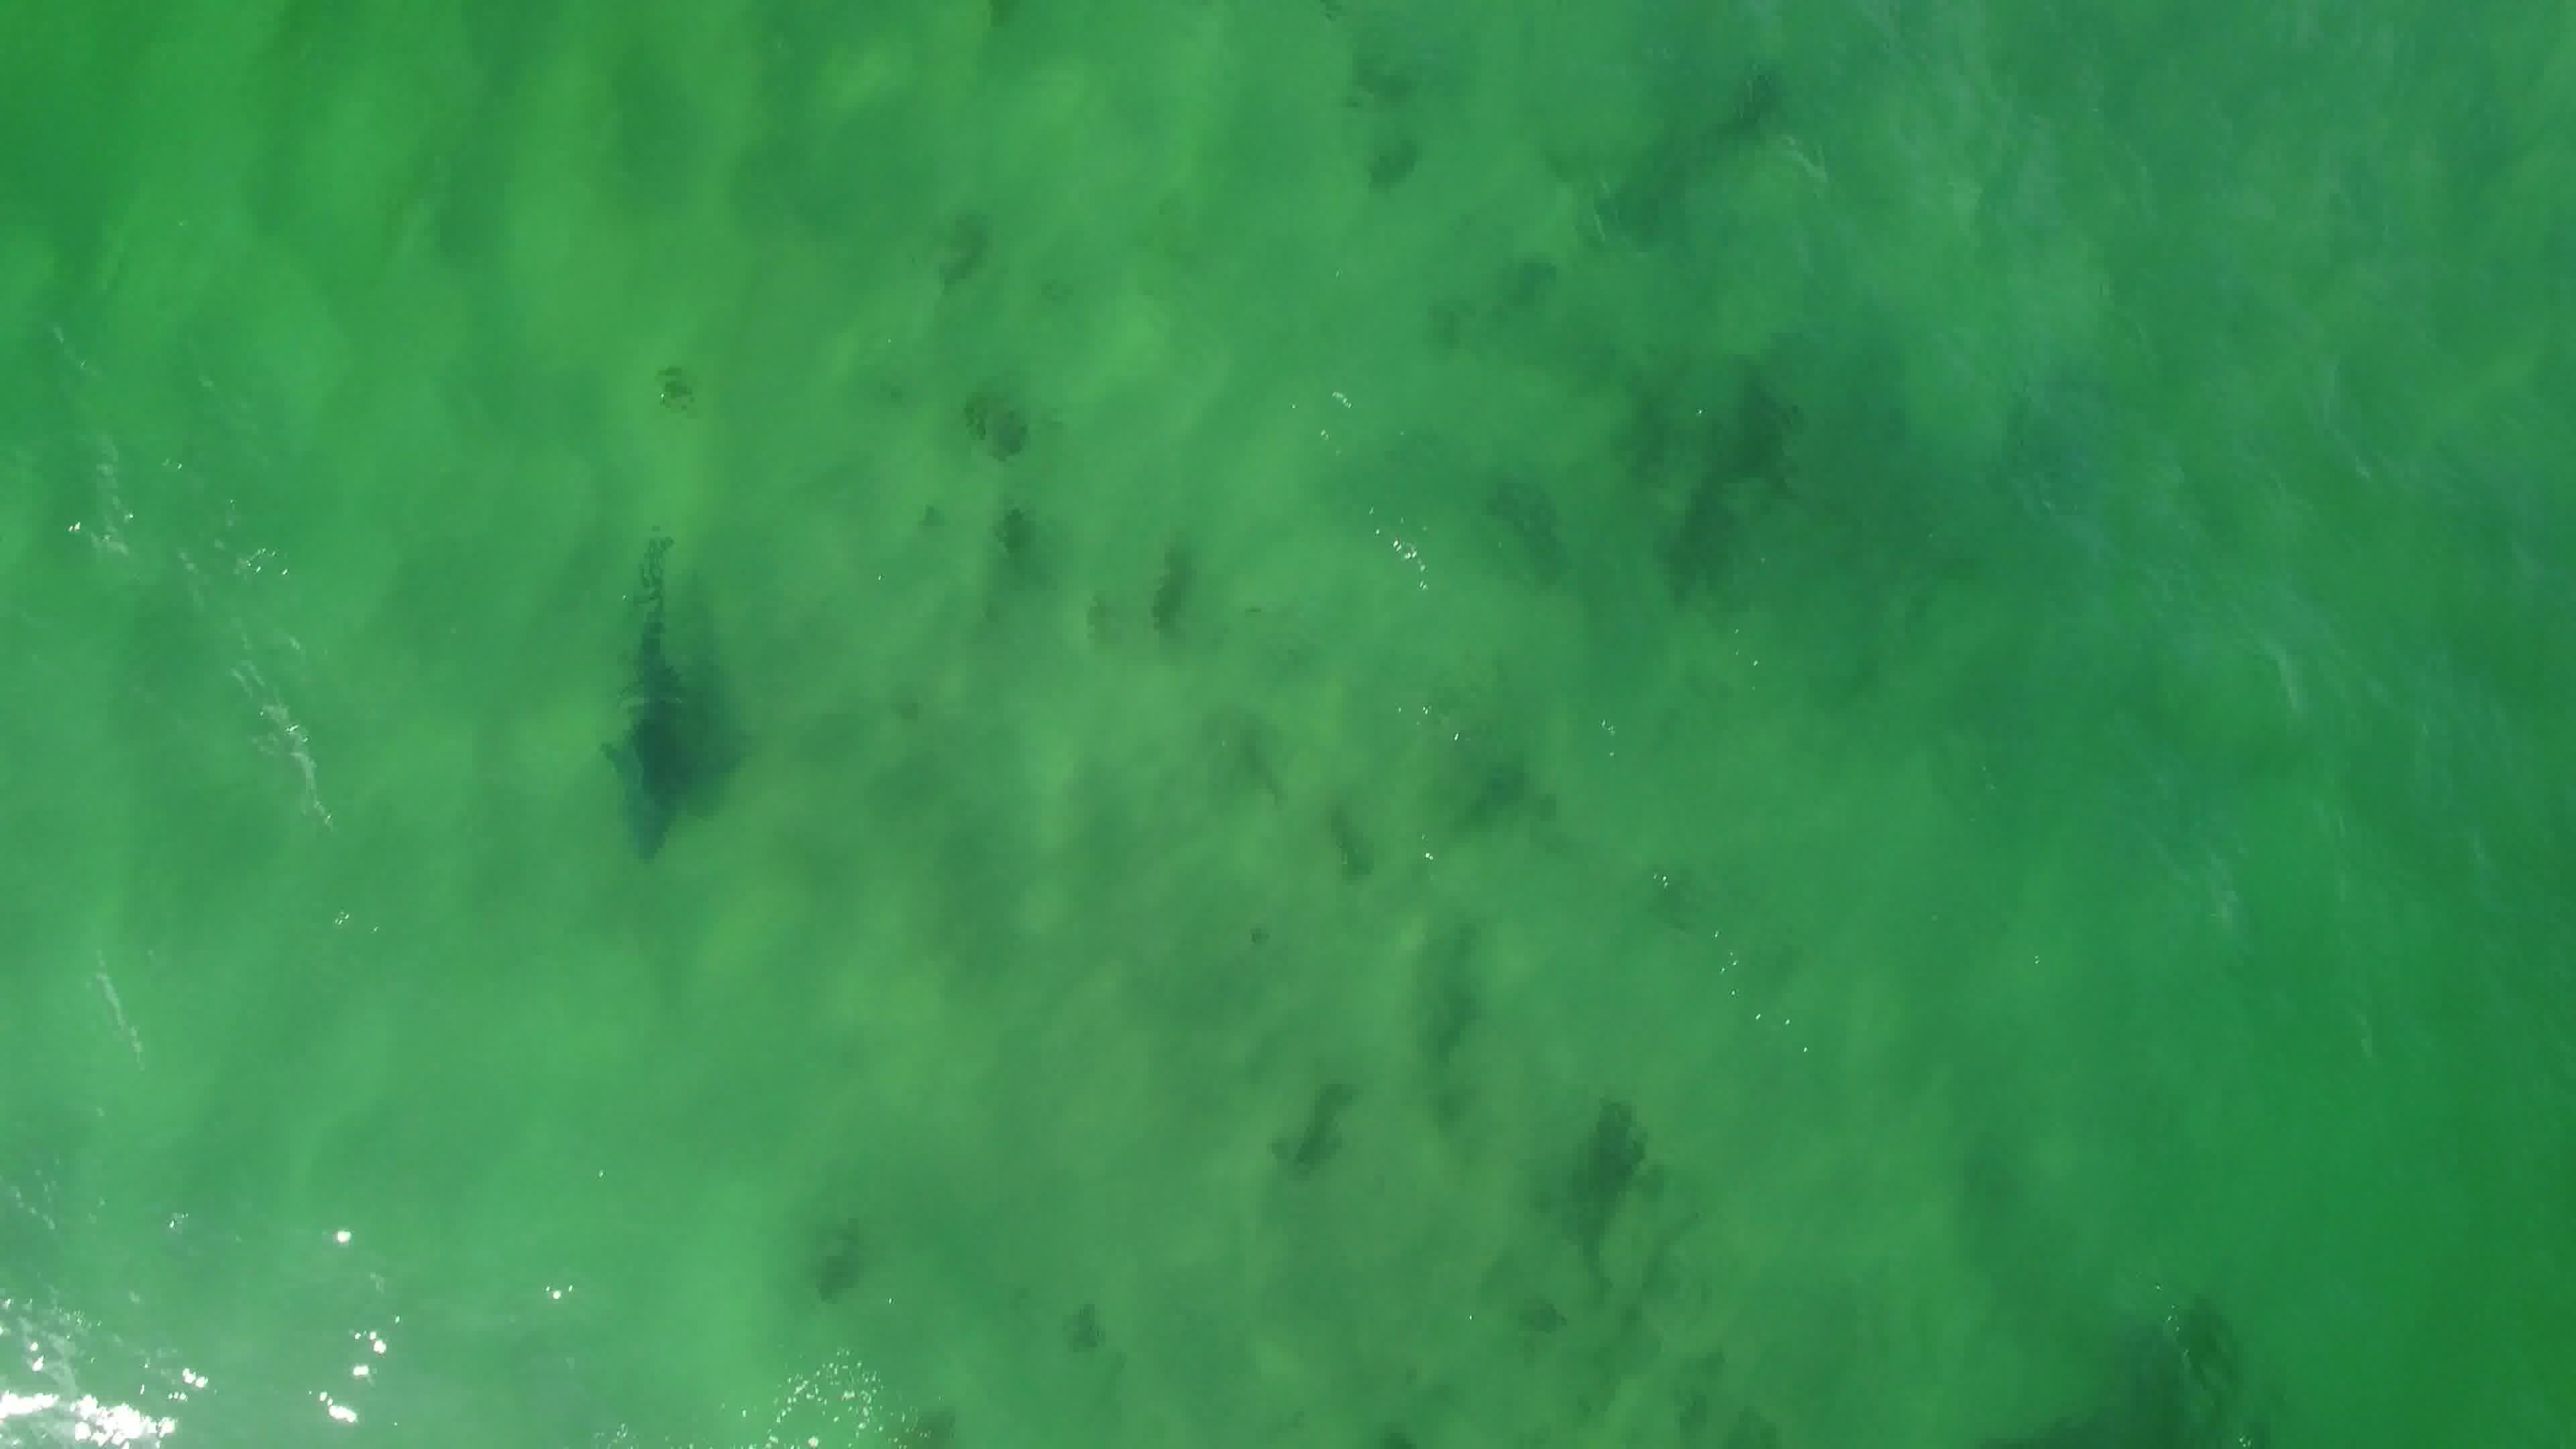shark: (589, 529, 695, 869)
